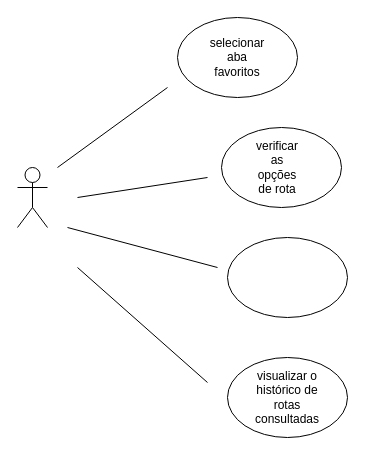
Image size: 365x455. Some labels were removed from this diagram. The centre of each missing label's shape, as x and y in pixels:
Actor: the point at 32,197
selecionar a rota salva: the point at 287,277
